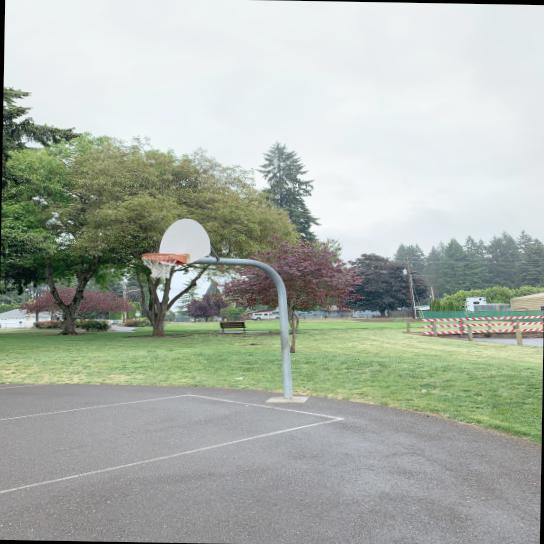basketball-hoop: (140, 251, 178, 280)
